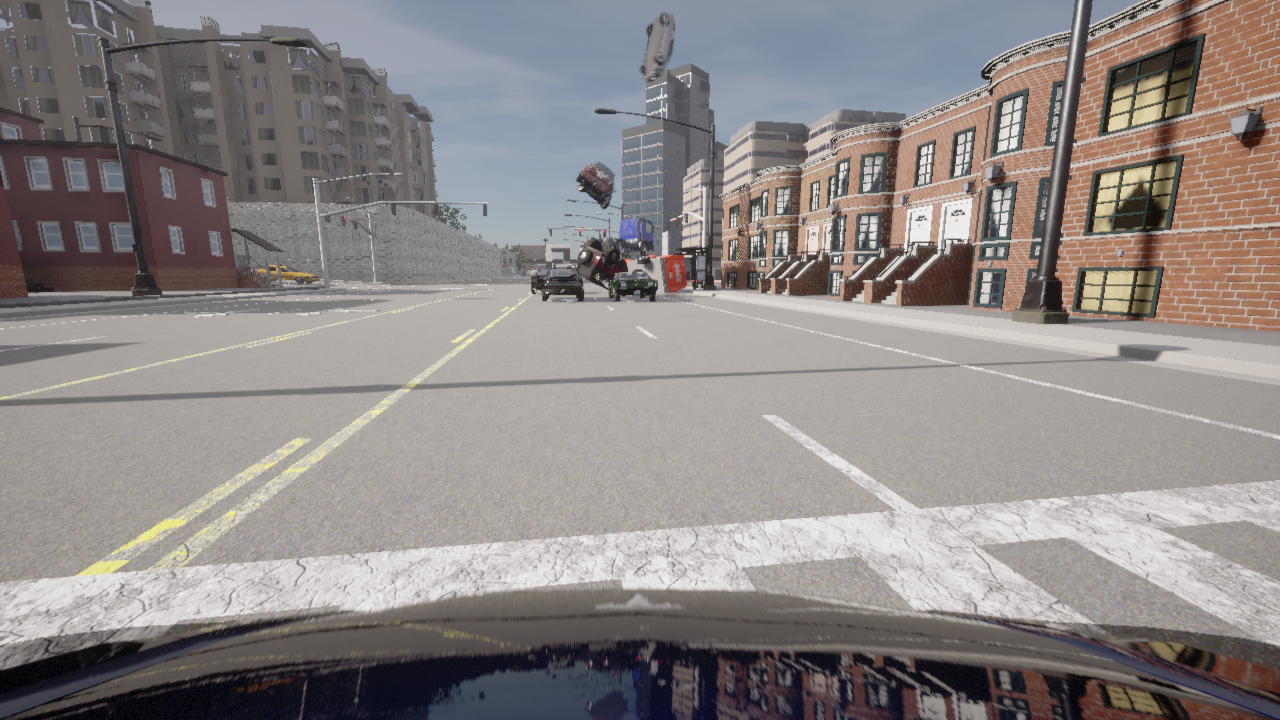cyclist: (0, 588, 1279, 719), (576, 240, 642, 289), (585, 218, 653, 256), (619, 255, 686, 293), (639, 11, 674, 82), (576, 162, 615, 208), (539, 267, 584, 300), (608, 271, 657, 301), (255, 265, 319, 283), (531, 269, 547, 293)
